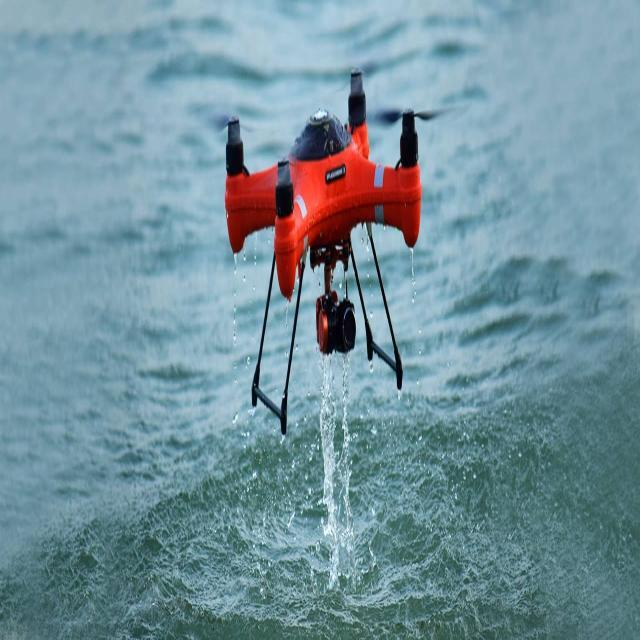drone: (205, 74, 463, 358)
